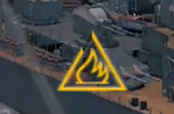1fire: (54, 58, 129, 94)
